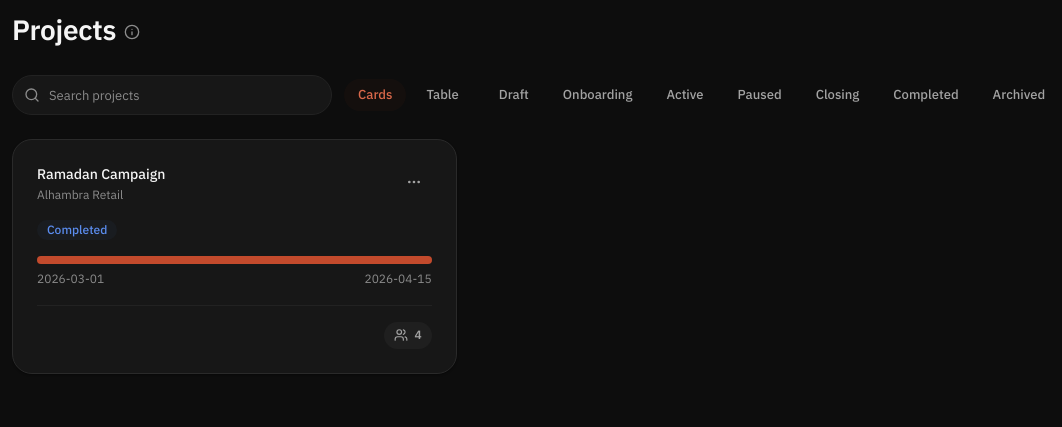
Test: ProjectsPage › offers only the transitions the domain permits
Click the button named "Actions for Ramadan Campaign".
click(414, 182)  # box x1=396 y1=164 x2=432 y2=200
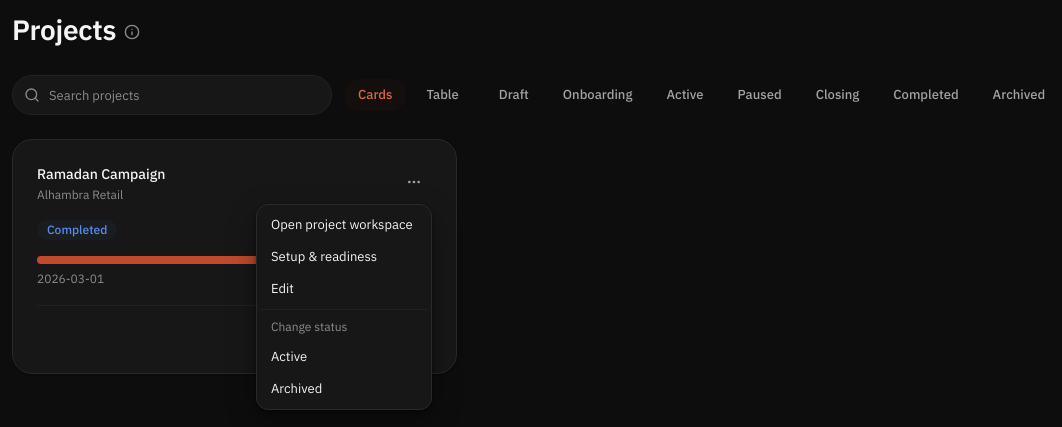
Expected: the menu item "Active" is shown, x1=271 y1=347 x2=307 y2=366
Expected: the menu item "Archived" is shown, x1=271 y1=379 x2=322 y2=398
